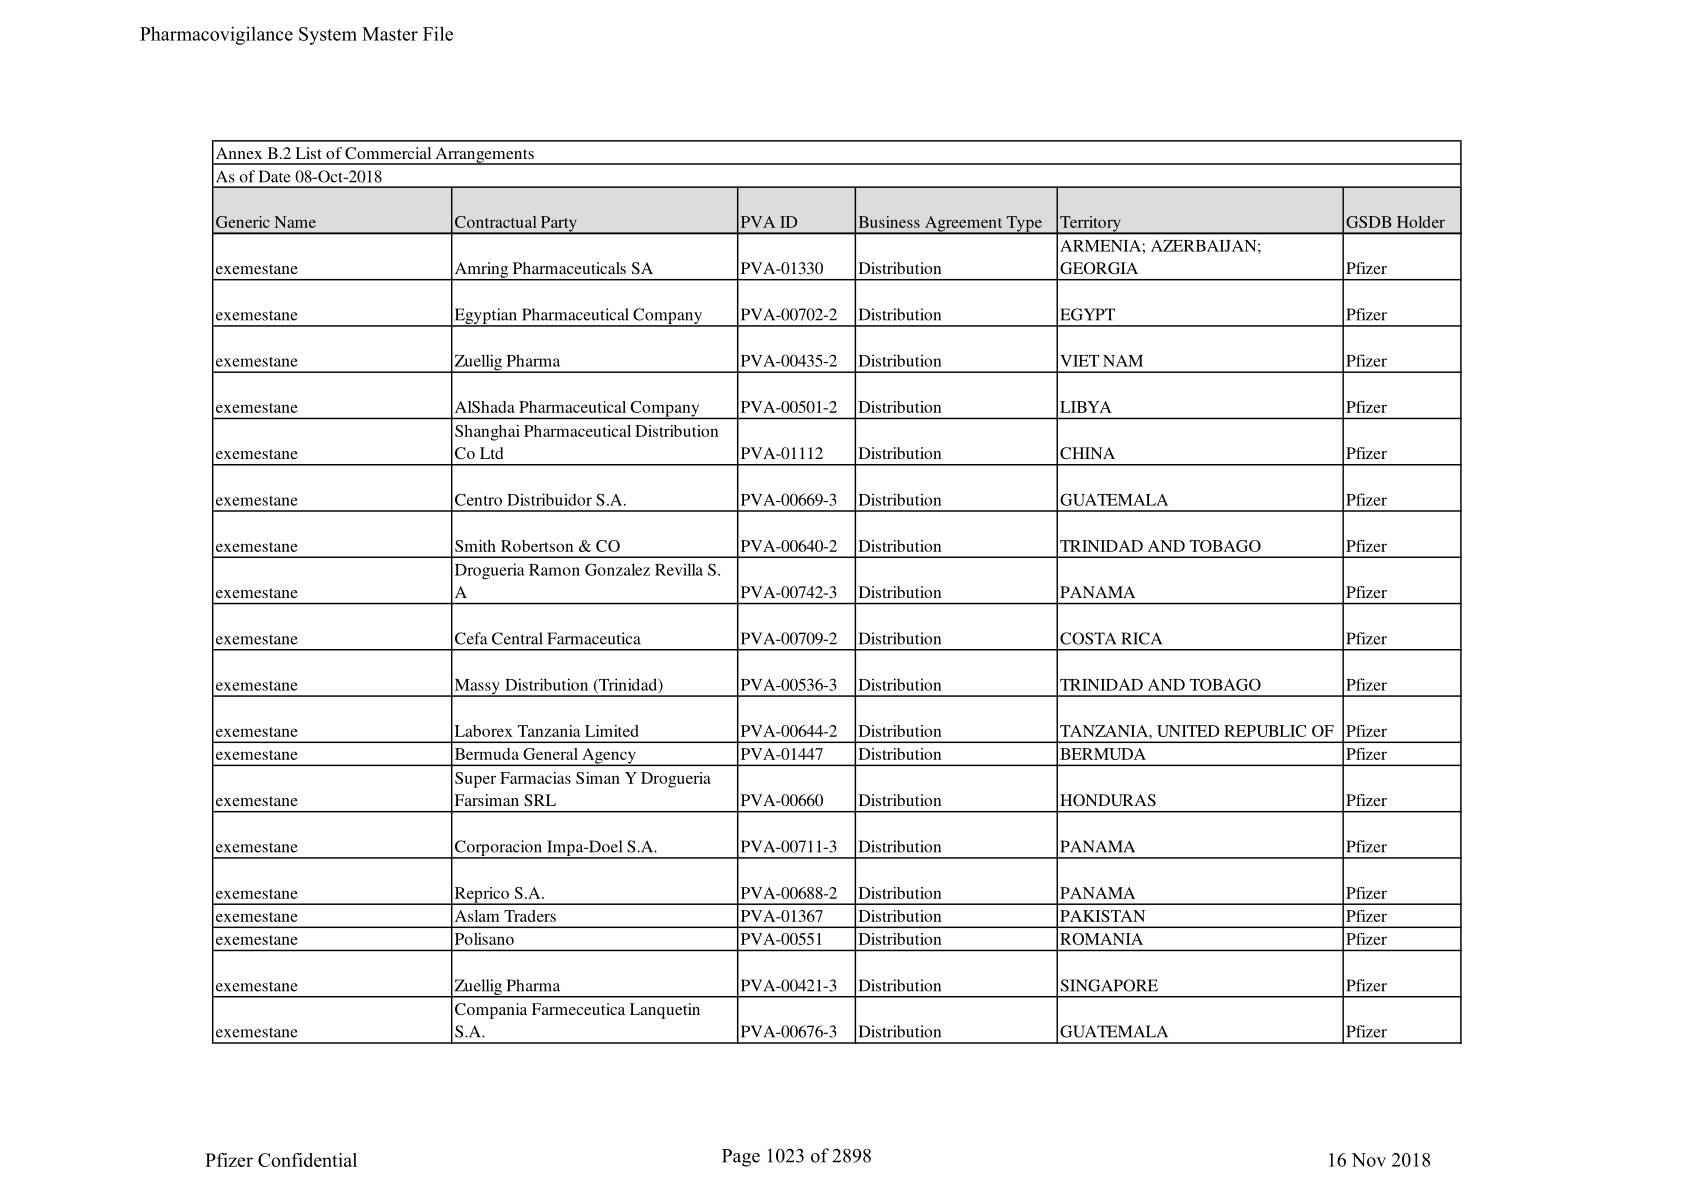merged_cells: (211, 138, 1463, 1045)
